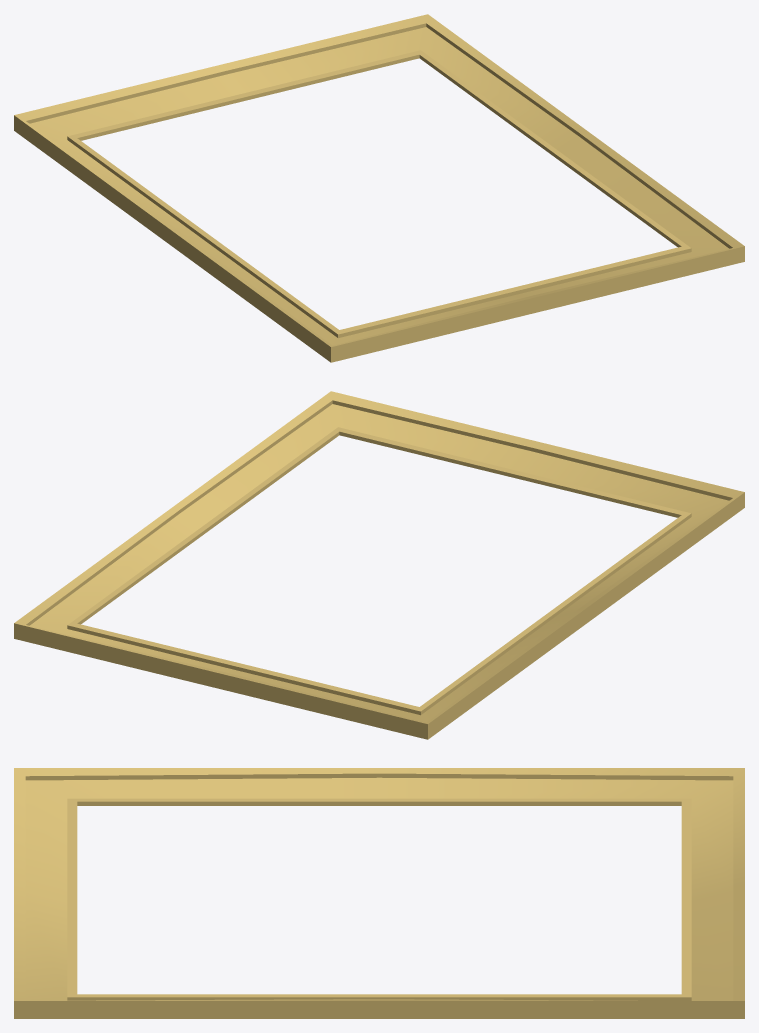
Rendered from Thin Frame.fbx.
3 views of the same model, one above another, from view 1: azimuth 30°, elevation 25°; view 2: azimuth 150°, elevation 25°; view 3: azimuth 270°, elevation 25° (orthographic). The views are drawn at different scales.
Visible parts, largest first — view 1: pPlane1; view 2: pPlane1; view 3: pPlane1.
Boxes of the visible parts, x1,y1,x2,y2 form: pPlane1: (14, 14, 744, 362); pPlane1: (14, 391, 744, 739); pPlane1: (14, 768, 744, 1018).
Bounding box in the file's own units: 26.79 × 0.962 × 35.54.
